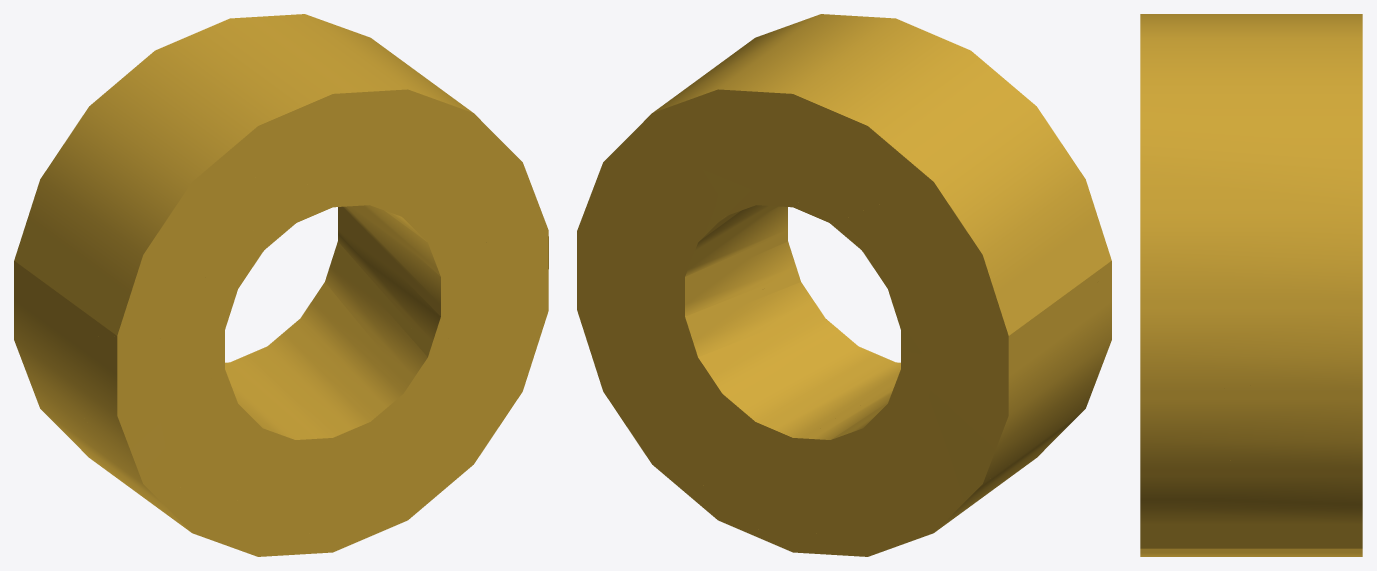
Rendered from Donut.fbx.
The picture shows the model from 3 angles, left to right: view 1: azimuth 30°, elevation 25°; view 2: azimuth 150°, elevation 25°; view 3: azimuth 270°, elevation 25°; orthographic projection. The views are drawn at different scales.
Parts seen in each view (by area): view 1: Donut; view 2: Donut; view 3: Donut.
Part boxes in pixels (x1,y1,x2,y2): Donut: (14,14,548,556); Donut: (577,14,1111,556); Donut: (1140,14,1362,556).
Bounding box in the file's own units: 485 × 492 × 200.
